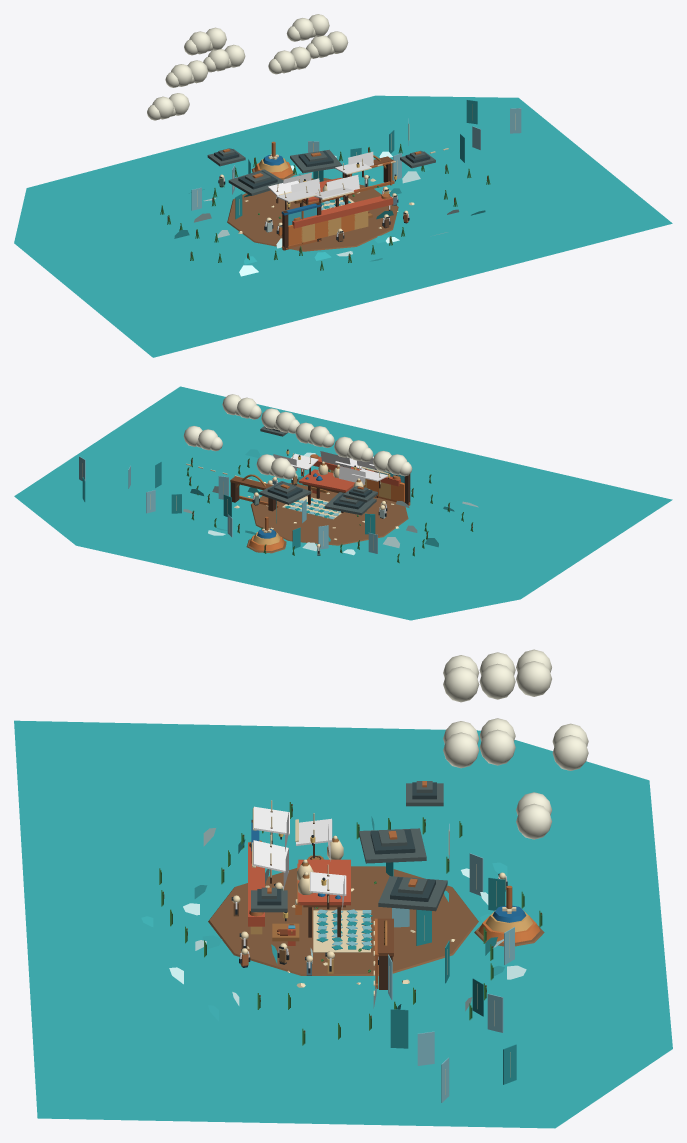
File: asset.glb
3 renders of one model, top to bottom at view 1: azimuth 30°, elevation 25°; view 2: azimuth 150°, elevation 25°; view 3: azimuth 270°, elevation 25°, orthographic. The views are drawn at different scales.
Parts seen in each view (by area): view 1: Water_Surface, Town_Foundation, Textile_Awning (×3), North_Wall_Cap; view 2: Water_Surface, Town_Foundation, Textile_Awning (×3), Main_Roof (×2), Stall_Roof, Courtyard_Floor, Arched_Canal_Bridge; view 3: Water_Surface, Town_Foundation, Textile_Awning (×4), Main_Roof (×2), Courtyard_Floor, Stall_Roof, Cloud_Puff_1_3, Cloud_Puff_0_3, Cloud_Puff_4_3, Cloud_Puff_5_3, Cloud_Puff_3_3, Cloud_Puff_6_3 (+3 smaller).
Boxes of the visible parts, x1,y1,x2,y2 form: Water_Surface: [14, 95, 672, 357]; Town_Foundation: [227, 178, 398, 251]; Textile_Awning (×3): [276, 151, 373, 209]; North_Wall_Cap: [292, 196, 393, 228]; Water_Surface: [14, 386, 672, 620]; Town_Foundation: [251, 483, 408, 545]; Textile_Awning (×3): [273, 451, 388, 488]; Main_Roof (×2): [259, 481, 376, 515]; Stall_Roof: [298, 469, 354, 492]; Courtyard_Floor: [282, 496, 341, 519]; Arched_Canal_Bridge: [230, 474, 276, 511]; Water_Surface: [14, 720, 672, 1128]; Town_Foundation: [208, 866, 478, 975]; Textile_Awning (×4): [252, 800, 346, 910]; Main_Roof (×2): [359, 828, 447, 911]; Courtyard_Floor: [313, 910, 370, 952]; Stall_Roof: [298, 859, 350, 905]; Cloud_Puff_1_3: [479, 663, 515, 699]; Cloud_Puff_0_3: [443, 666, 479, 702]; Cloud_Puff_4_3: [443, 732, 479, 768]; Cloud_Puff_5_3: [479, 729, 515, 765]; Cloud_Puff_3_3: [552, 735, 588, 770]; Cloud_Puff_6_3: [516, 803, 552, 839].
Bounding box in the file's own units: 41 × 11.54 × 28.
